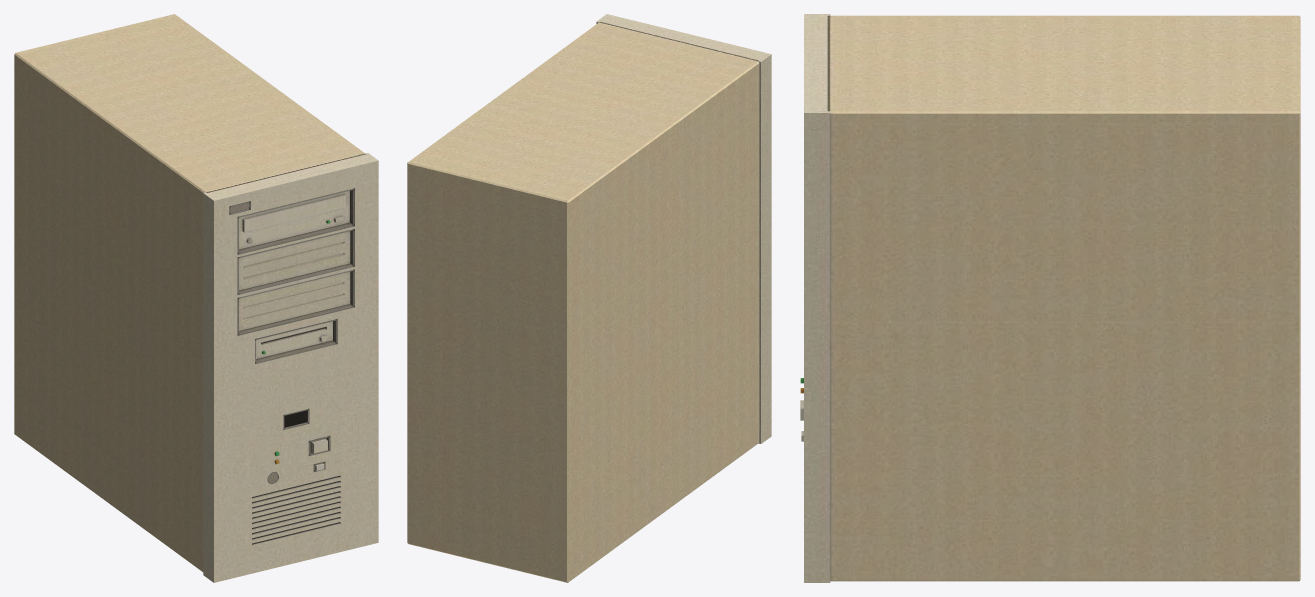
Rendered from tower-c.glb.
3 views of the same model, side by side, from view 1: azimuth 30°, elevation 25°; view 2: azimuth 150°, elevation 25°; view 3: azimuth 270°, elevation 25° (orthographic). The views are drawn at different scales.
Parts seen in each view (by area): view 1: case-baked; view 2: case-baked; view 3: case-baked.
Boxes of the visible parts, x1=… form: case-baked: x1=14, y1=14, x2=378, y2=582; case-baked: x1=407, y1=14, x2=771, y2=582; case-baked: x1=800, y1=14, x2=1300, y2=582.
Bounding box in the file's own units: 0.214 × 0.48 × 0.4575.
1 material, 1 textured.
